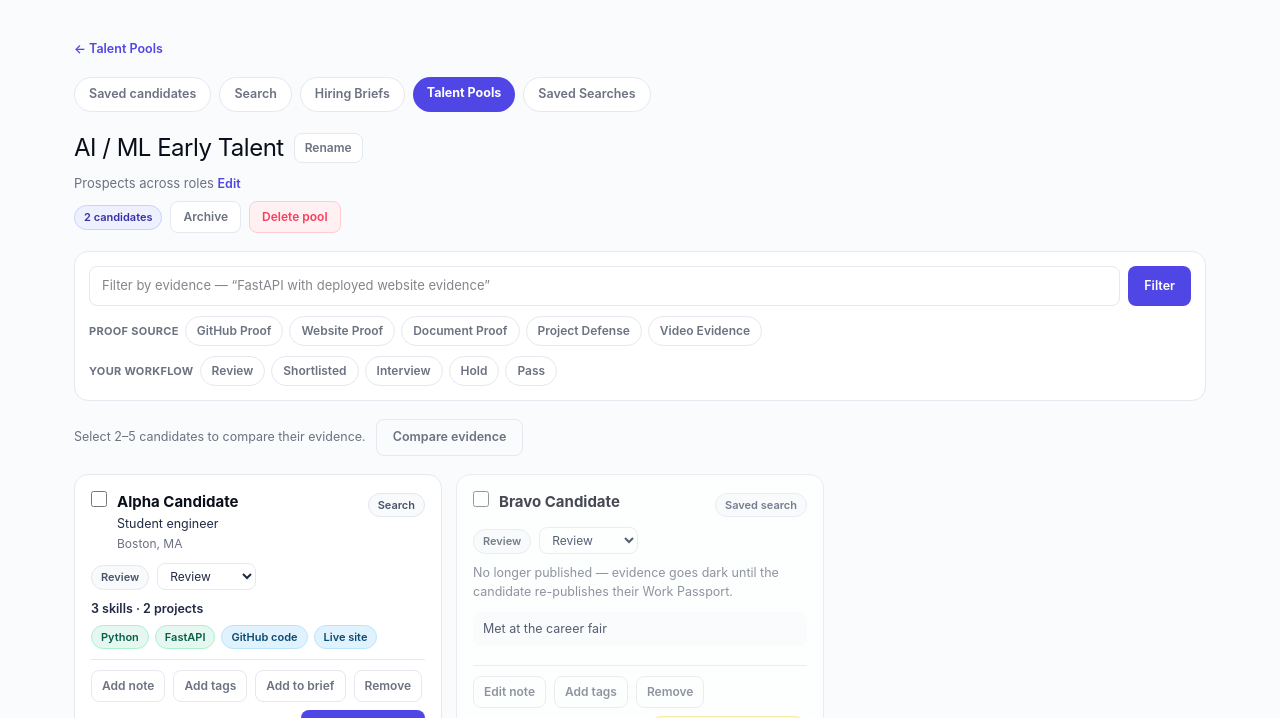
Test: PoolDetailView › edits a private note
This screenshot has width=1280, height=718.
Check: the heading "AI / ML Early Talent" is shown, box [74,130,284,166]
Click the button with test id "pool-candidate-note-toggle" showing "Add note" at (128, 686), box [91,670,165,702]
(page scrolled)
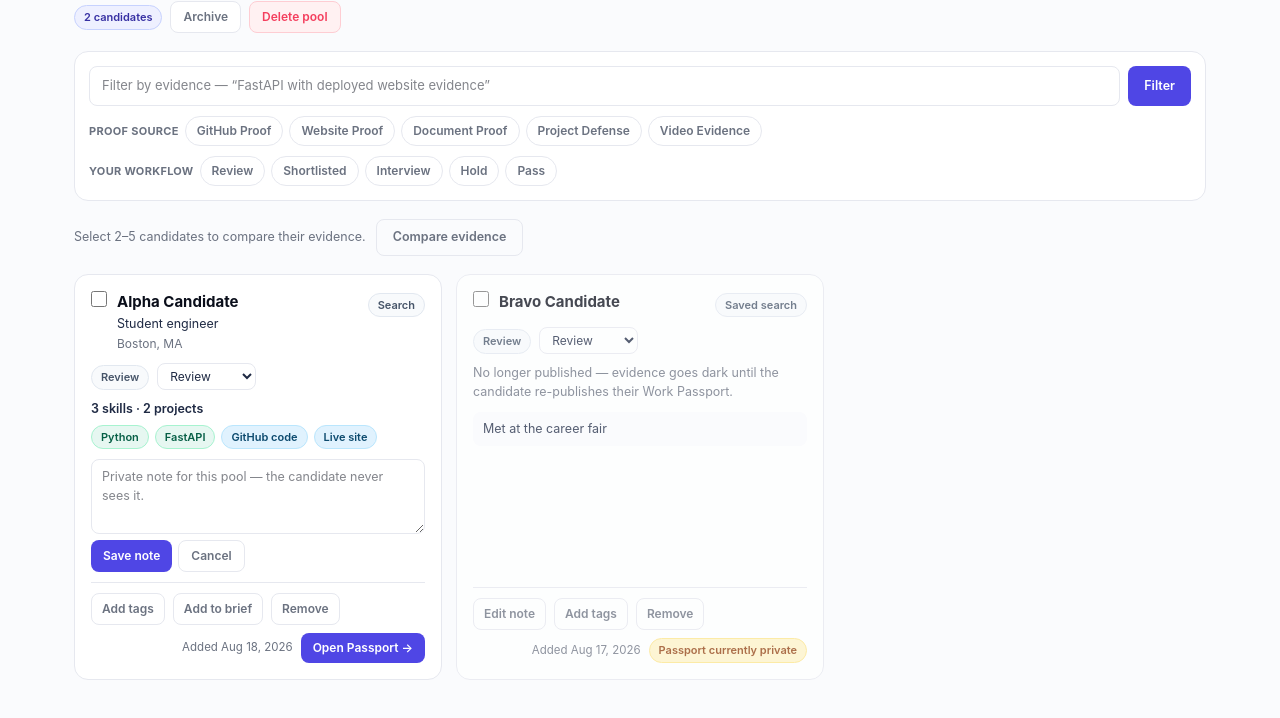
Type "Strong evidence" into the text box with test id "pool-candidate-note-input" at (258, 497), box [91,459,425,534]
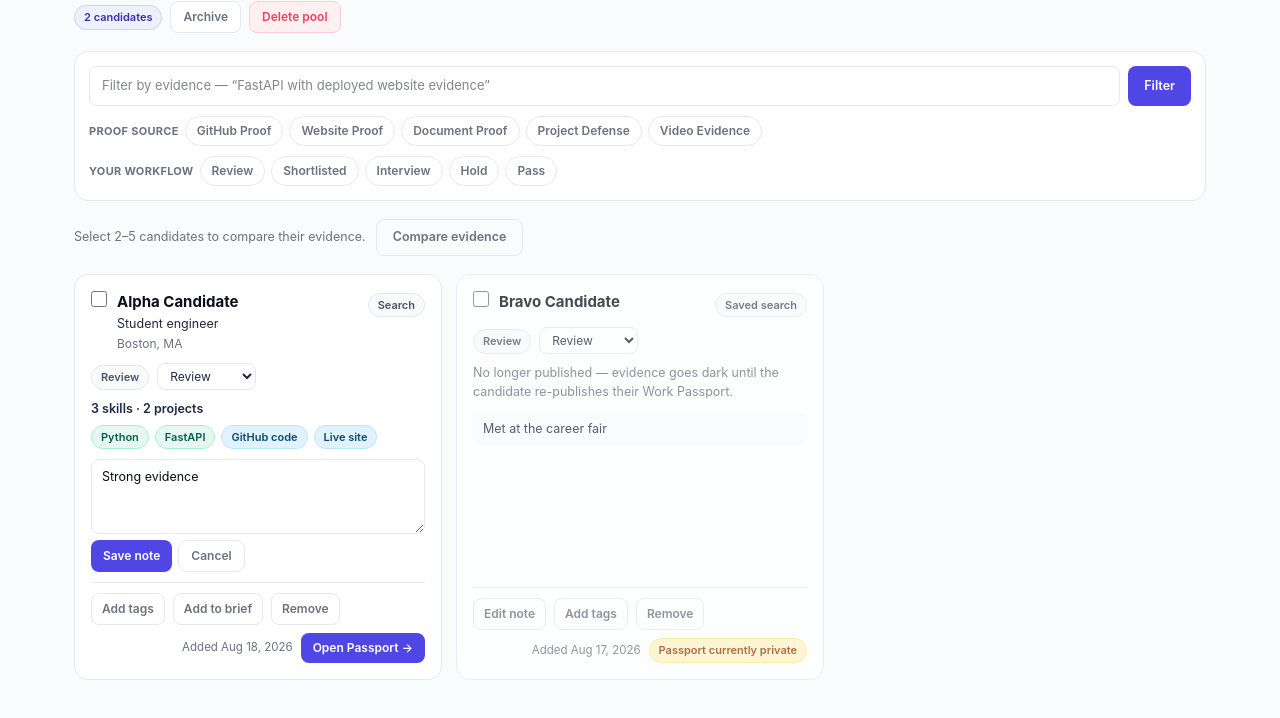
Click the button with test id "pool-candidate-note-save" at (132, 556), box [91,540,172,572]
(page scrolled)
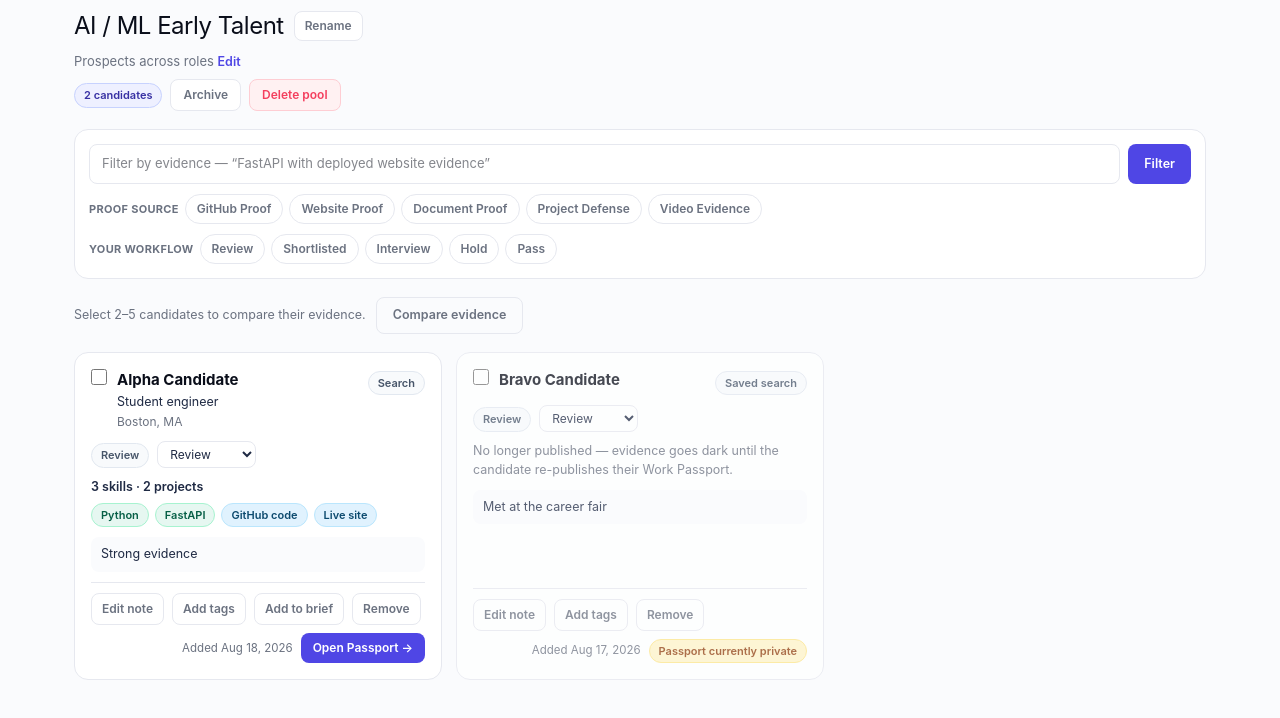
Check: the text with test id "pool-candidate-note" reads "Strong evidence", box [101,546,198,561]
